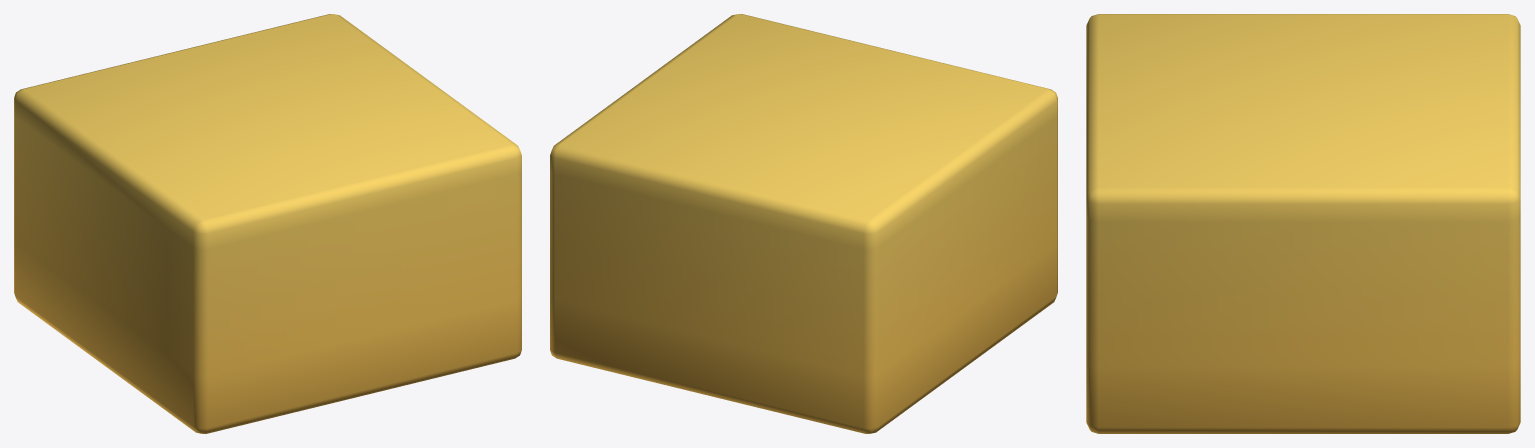
Rendered from mct_homepart_room01.fbx.
3 views of the same model, side by side, from view 1: azimuth 30°, elevation 25°; view 2: azimuth 150°, elevation 25°; view 3: azimuth 270°, elevation 25° (orthographic). The views are drawn at different scales.
Parts seen in each view (by area): view 1: room_01; view 2: room_01; view 3: room_01.
Boxes of the visible parts, left/top/right/bottom form: room_01: left=14, top=14, right=521, bottom=433; room_01: left=550, top=14, right=1057, bottom=433; room_01: left=1086, top=14, right=1520, bottom=433.
Size of the model in its own units: 400 by 250 by 400.
